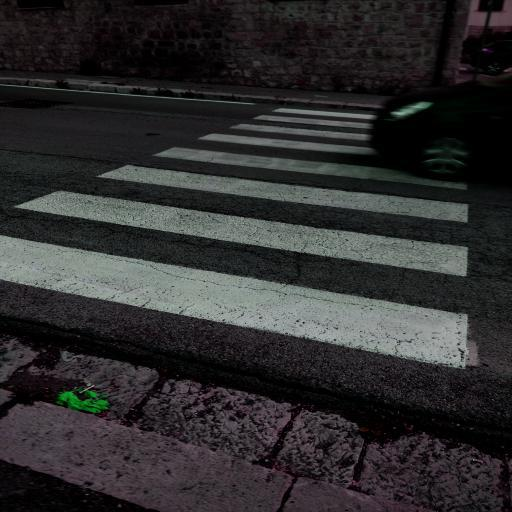crosswalk: (0, 160, 490, 284)
